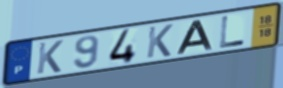4: (108, 27, 138, 65)
9: (72, 34, 101, 70)
A: (175, 19, 215, 56)
K: (35, 39, 65, 76), (145, 23, 175, 60)
L: (218, 15, 246, 50)
